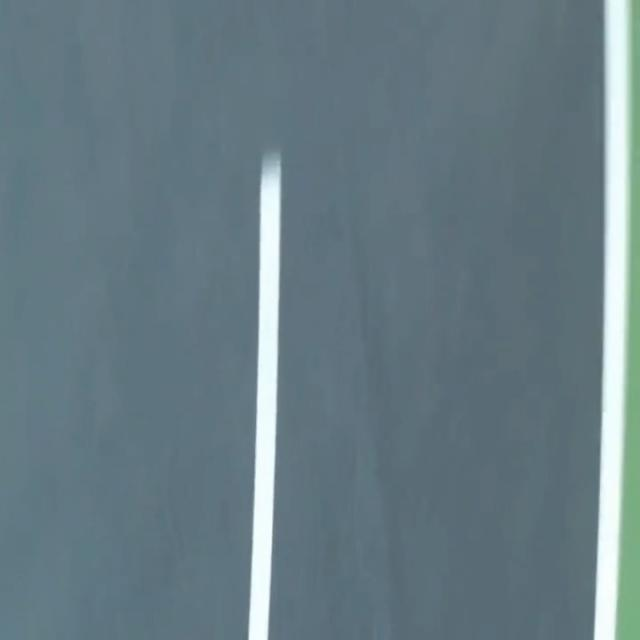center: (248, 153, 281, 639)
right: (594, 0, 630, 639)
